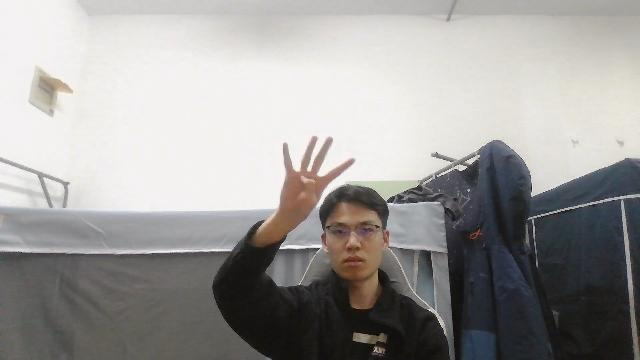four: (273, 129, 356, 233)
